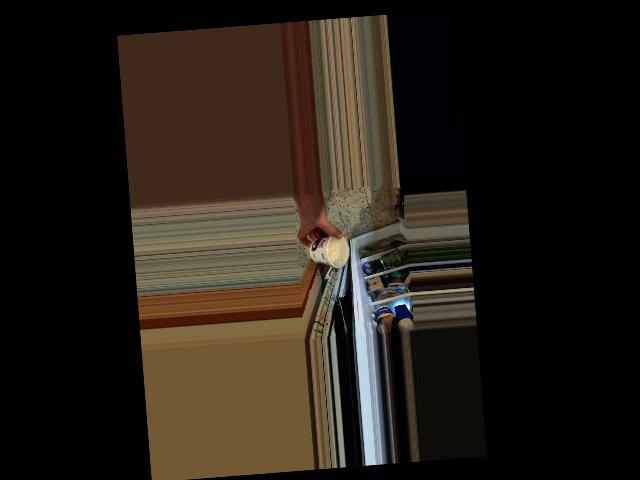cotage: (306, 230, 349, 269)
